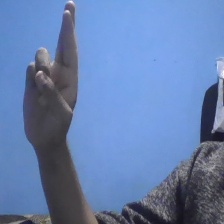R: (21, 1, 90, 146)
